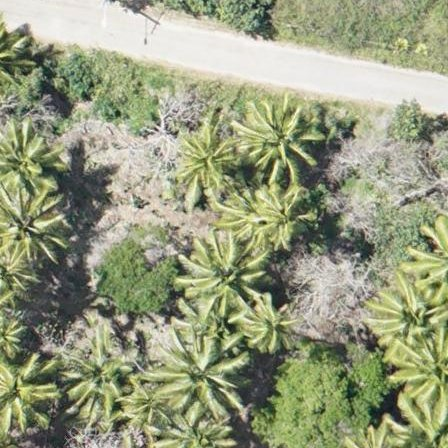palm_tree: (229, 90, 325, 193), (175, 223, 264, 318), (149, 324, 237, 418), (365, 278, 447, 360), (236, 290, 311, 370), (167, 122, 240, 199), (1, 178, 64, 261), (64, 331, 133, 405), (395, 335, 448, 424), (247, 184, 316, 249), (1, 122, 58, 199), (1, 349, 49, 428)
